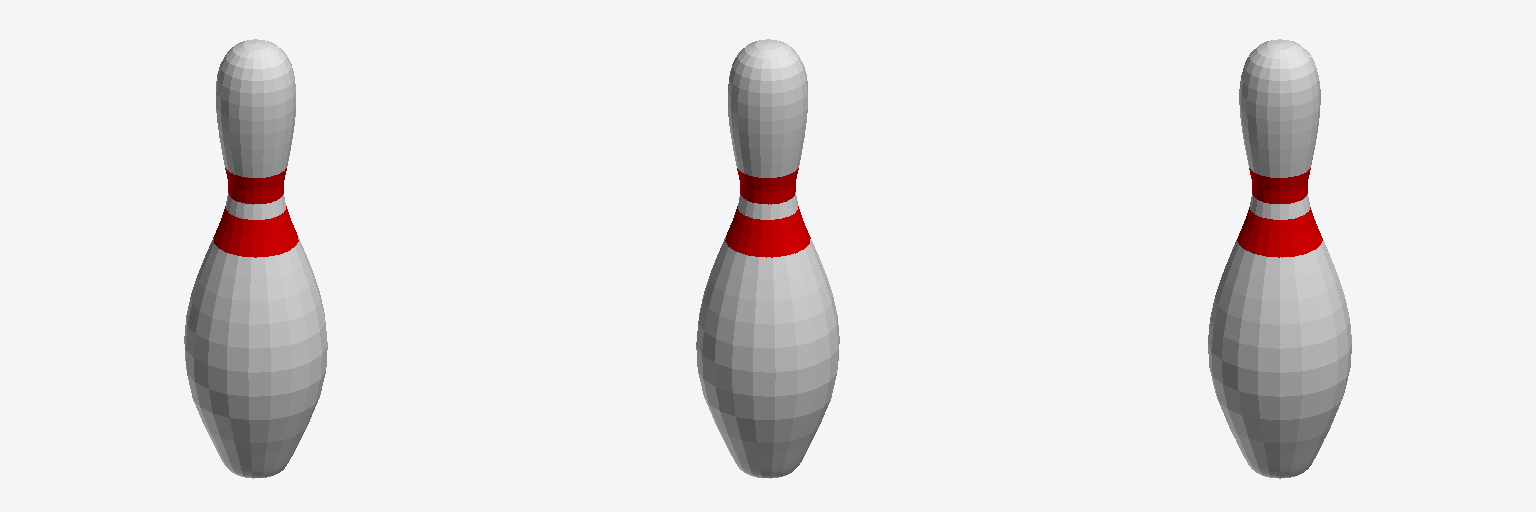
3 views of the same model, side by side, from view 1: azimuth 30°, elevation 25°; view 2: azimuth 150°, elevation 25°; view 3: azimuth 270°, elevation 25° (orthographic).
Bounding box in the file's own units: 1.17 × 3.8 × 1.17.
Materials: 1 (1 with a texture image).